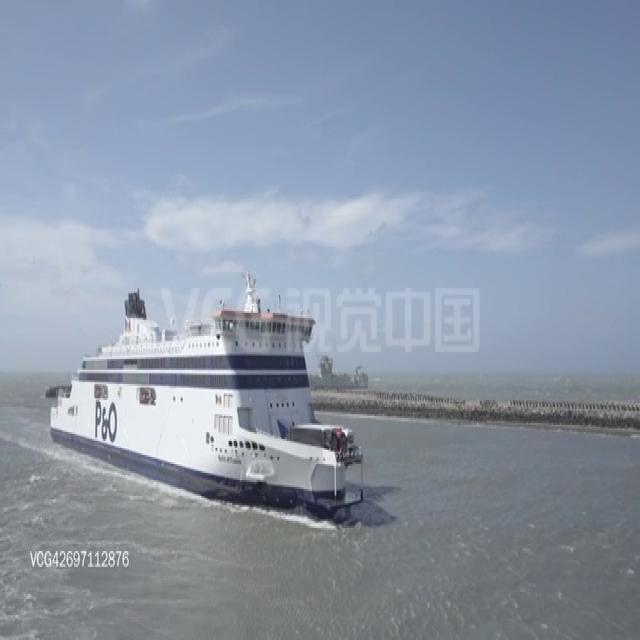passenger ship: (48, 278, 366, 513)
